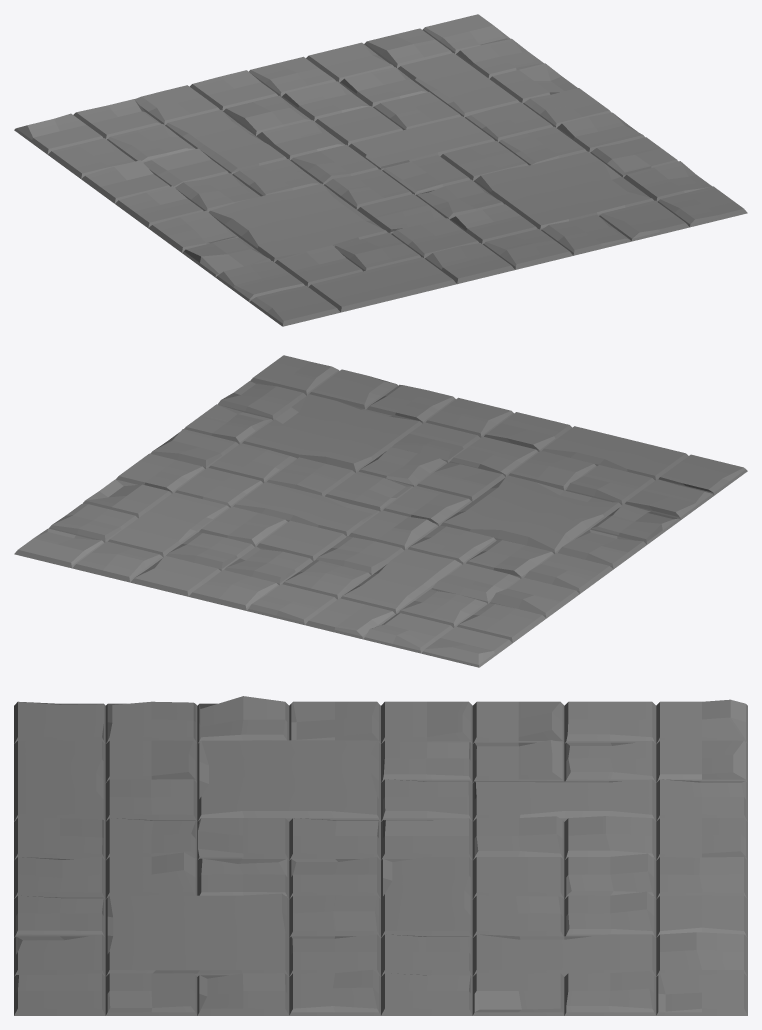
File: Floor.fbx
3 views of the same model, one above another, from view 1: azimuth 30°, elevation 25°; view 2: azimuth 150°, elevation 25°; view 3: azimuth 270°, elevation 25° (orthographic). The views are drawn at different scales.
Parts seen in each view (by area): view 1: Floor; view 2: Floor; view 3: Floor.
Part boxes in pixels (x1=…): Floor: x1=14, y1=14, x2=747, y2=326; Floor: x1=14, y1=355, x2=747, y2=667; Floor: x1=14, y1=696, x2=747, y2=1015.
Size of the model in its own units: 21.93 by 0.4514 by 21.93.
